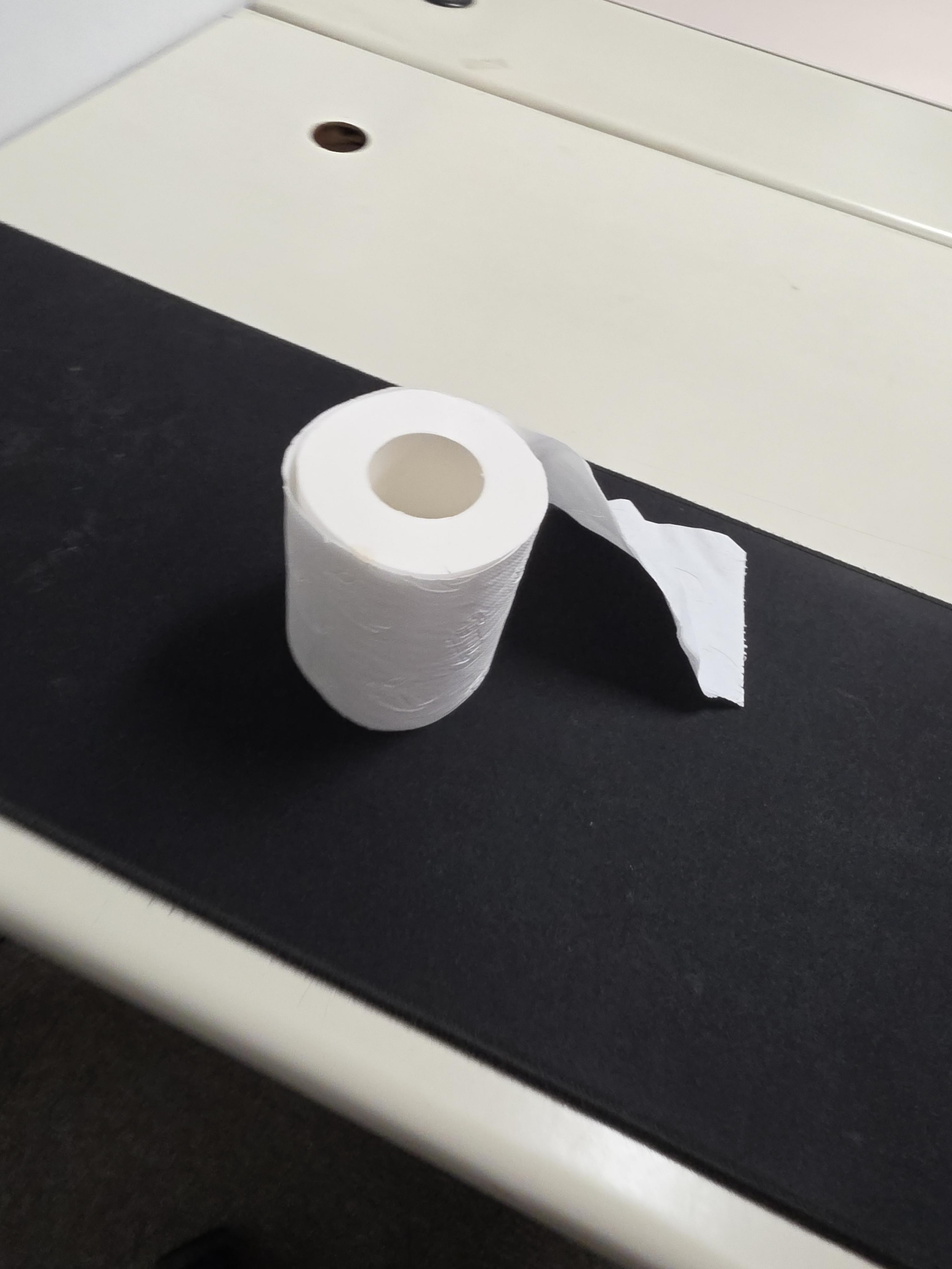tissue: (280, 387, 747, 731)
